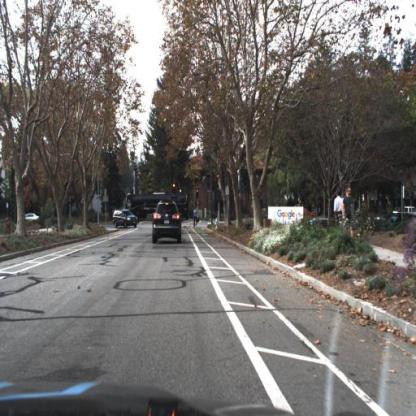biker: (192, 207, 200, 231)
car: (152, 199, 183, 243), (111, 209, 139, 230)
pedestrian: (341, 186, 352, 237), (334, 191, 343, 234)
truck: (120, 192, 192, 223), (126, 193, 193, 222)
